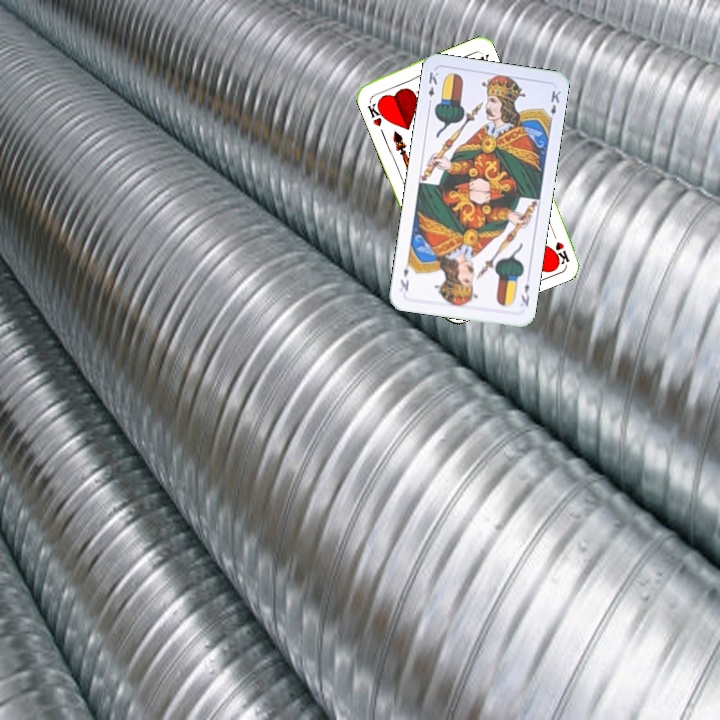EK: (424, 68, 441, 108), (517, 280, 532, 309)
HK: (548, 226, 572, 267), (363, 97, 388, 129)
